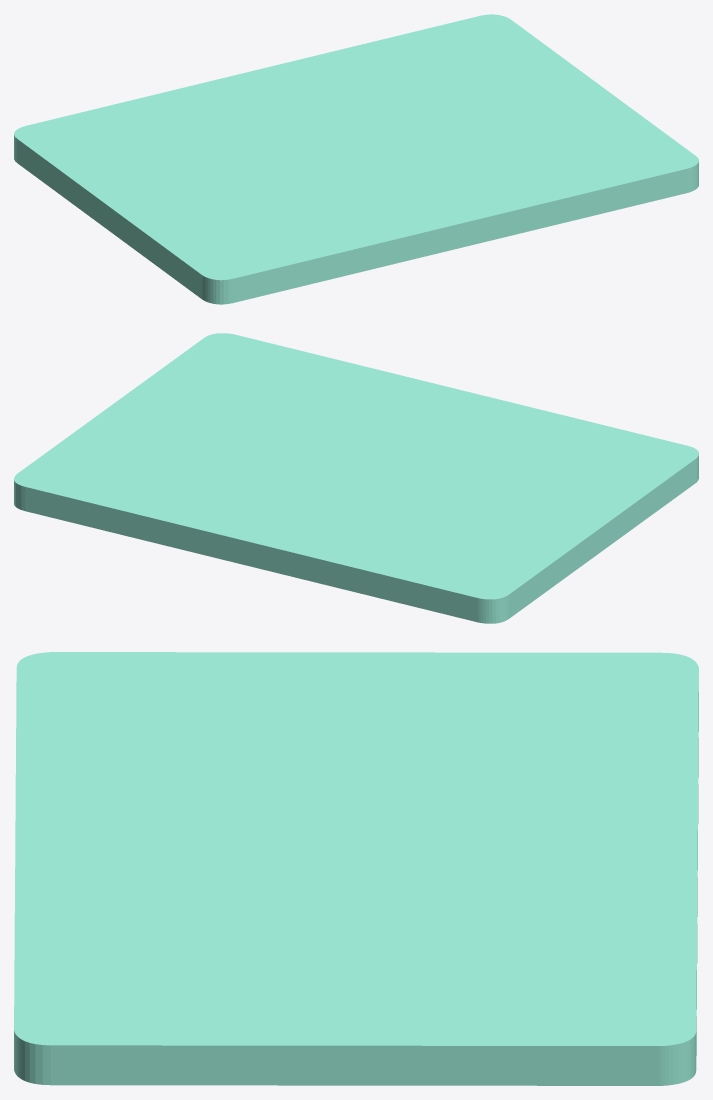
Rendered from nutrition-info.glb.
3 renders of one model, top to bottom at view 1: azimuth 30°, elevation 25°; view 2: azimuth 150°, elevation 25°; view 3: azimuth 270°, elevation 25°, orthographic. The views are drawn at different scales.
Visible parts, largest first — view 1: svg_3; view 2: svg_3; view 3: svg_3.
Boxes of the visible parts, x1,y1,x2,y2 form: svg_3: [14, 14, 698, 304]; svg_3: [14, 333, 698, 623]; svg_3: [14, 652, 698, 1085].
Bounding box in the file's own units: 0.2121 × 0.01 × 0.1558.
